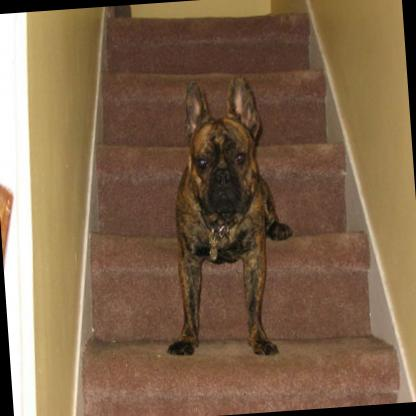French_bulldog: (146, 69, 300, 361)
